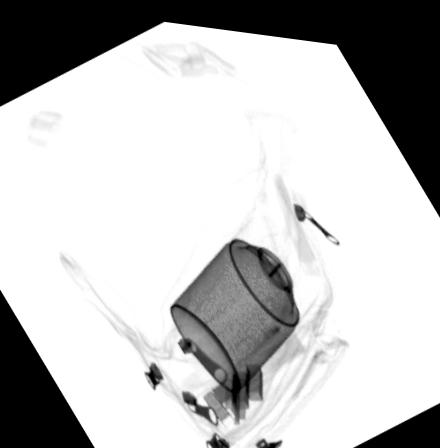Sprayer: (166, 199, 325, 389)
